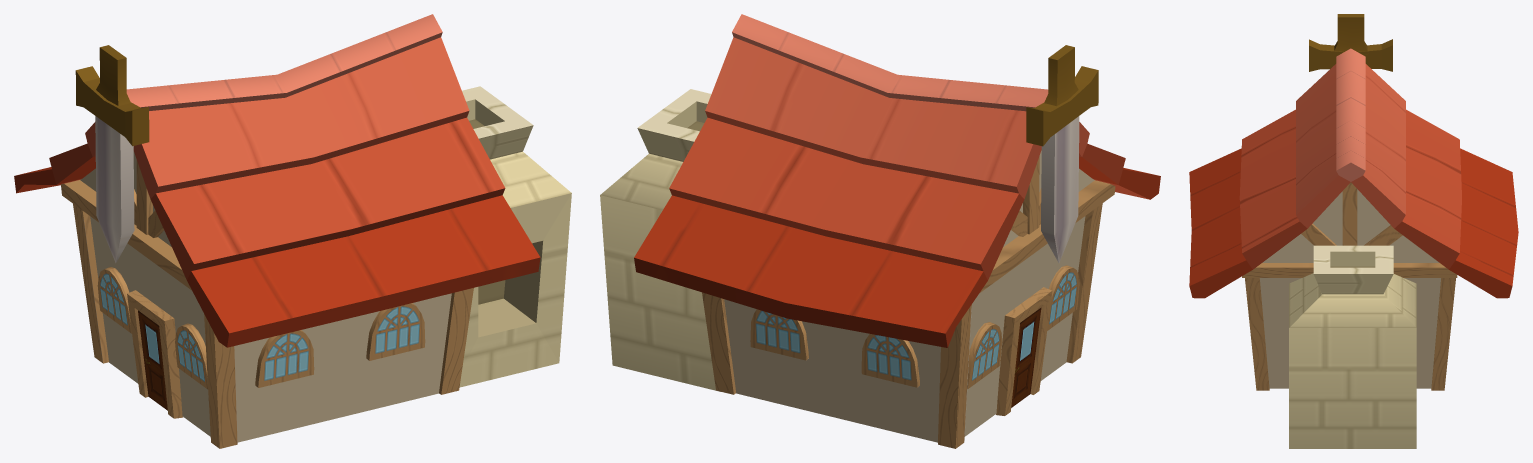
The model's file is building_weapon_lv2.FBX.
3 views of the same model, side by side, from view 1: azimuth 30°, elevation 25°; view 2: azimuth 150°, elevation 25°; view 3: azimuth 270°, elevation 25° (orthographic). The views are drawn at different scales.
Parts seen in each view (by area): view 1: building_weapon_roof_lv2, building_weapon_main_lv2, building_weapon_lv2; view 2: building_weapon_roof_lv2, building_weapon_main_lv2, building_weapon_lv2; view 3: building_weapon_roof_lv2, building_weapon_main_lv2, building_weapon_lv2.
Part boxes in pixels (box(x1,y1,x2,y2)): building_weapon_roof_lv2: box(14, 14, 540, 347); building_weapon_main_lv2: box(90, 86, 571, 442); building_weapon_lv2: box(61, 45, 473, 448); building_weapon_roof_lv2: box(634, 14, 1160, 347); building_weapon_main_lv2: box(600, 89, 1085, 442); building_weapon_lv2: box(702, 45, 1115, 448); building_weapon_roof_lv2: box(1189, 48, 1518, 298); building_weapon_main_lv2: box(1259, 245, 1440, 448); building_weapon_lv2: box(1242, 14, 1457, 390).
Bounding box in the file's own units: 437 × 371 × 388.
